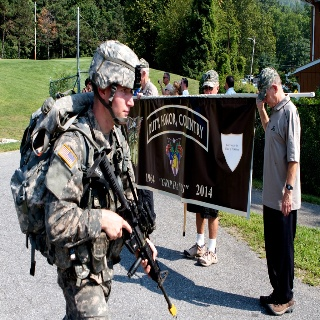rifle: (84, 149, 183, 320)
